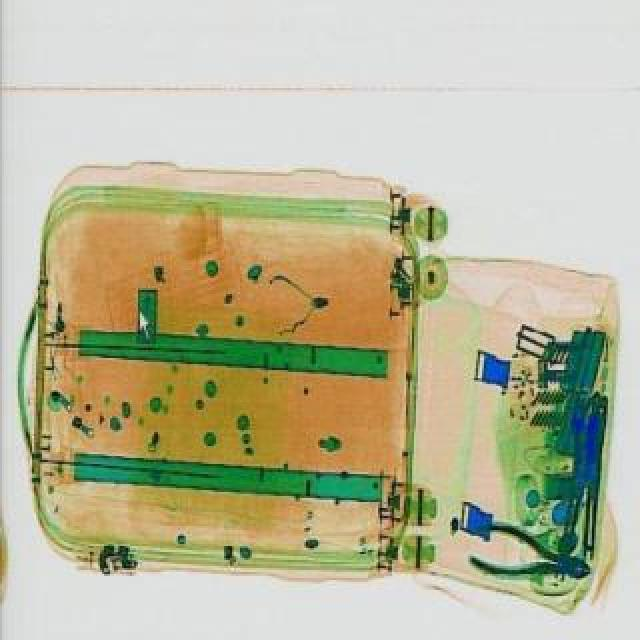wrench: (462, 516, 596, 598)
